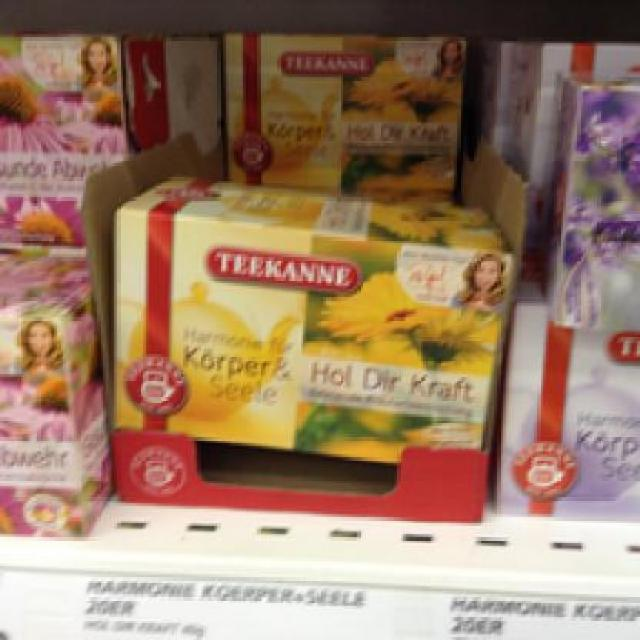Tea: (109, 166, 512, 463), (217, 23, 463, 186)
